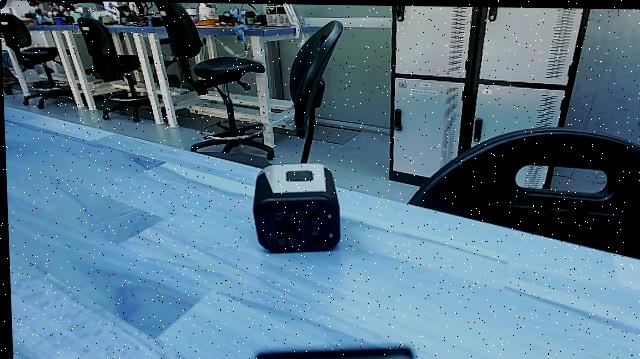adapter: (250, 161, 342, 254)
